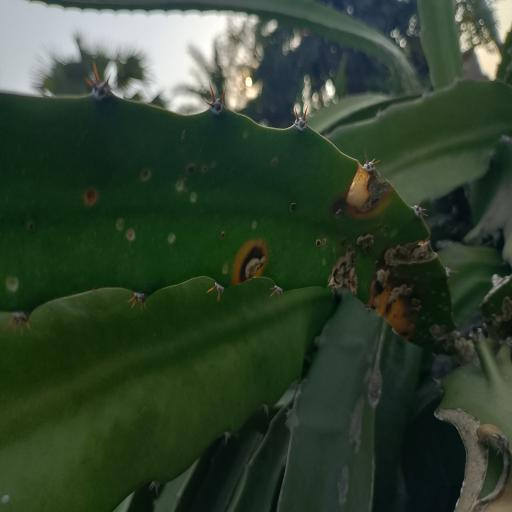stemcanker: (171, 135, 224, 212), (404, 278, 448, 324), (114, 216, 142, 256), (312, 230, 334, 272), (218, 230, 231, 281), (7, 266, 25, 299), (162, 231, 187, 253), (134, 164, 156, 186), (85, 187, 106, 210), (331, 202, 351, 226), (285, 202, 302, 228), (377, 217, 398, 237), (267, 155, 283, 179), (247, 213, 264, 235), (239, 127, 252, 147), (339, 237, 347, 250), (373, 255, 380, 269)
